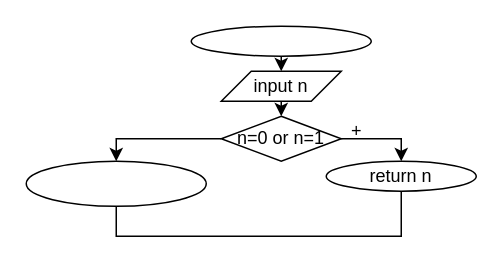
Some shapes in this 503 by 264 pixel diagram are drawn without their labels. Here are the shapes that lost their labels. From the top down, the centre of each, then its label:
(x=280, y=40): begin find fibonacci n
(x=115, y=183): return fibbo(n-1)+fibbo(n-2)
